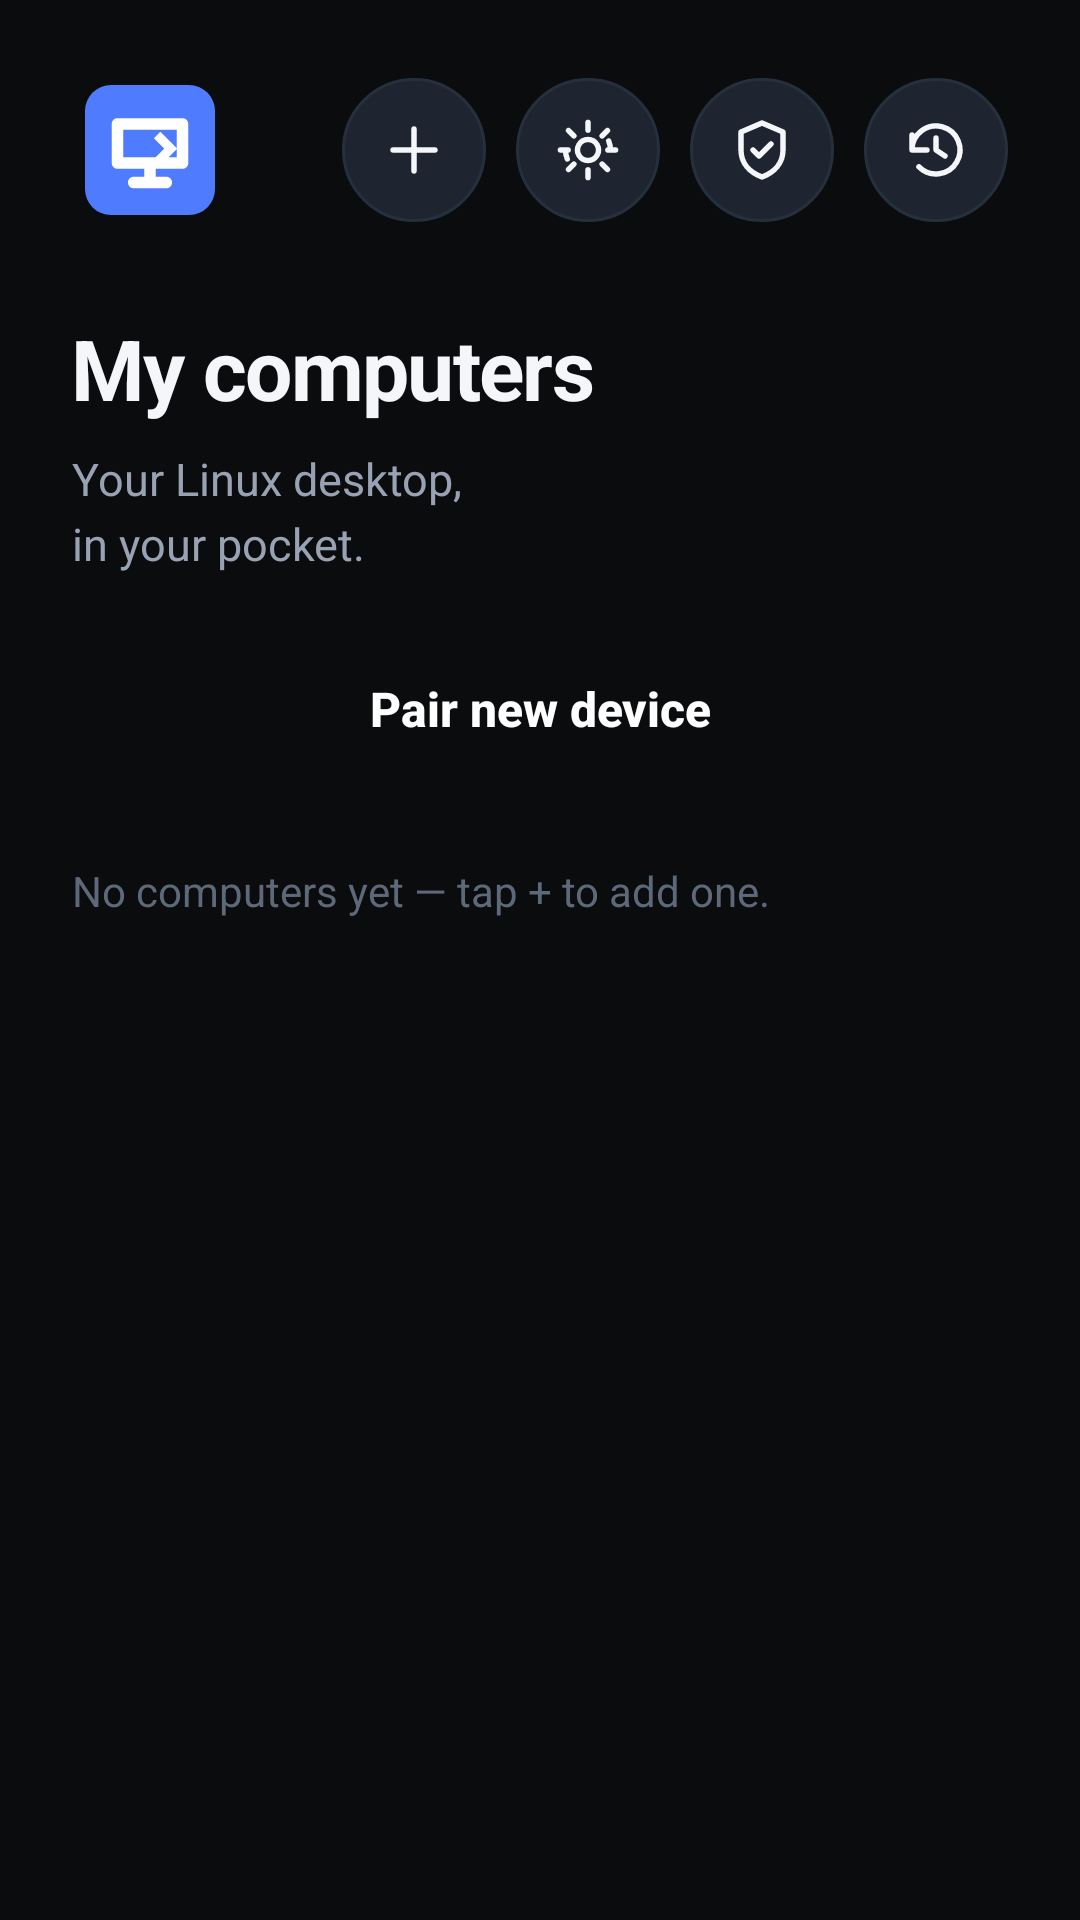

Icon click points for this 1080 × 1920 phone screenshot, format (x,y):
Add: (414,150)
Security center: (762,150)
Session history: (936,150)
